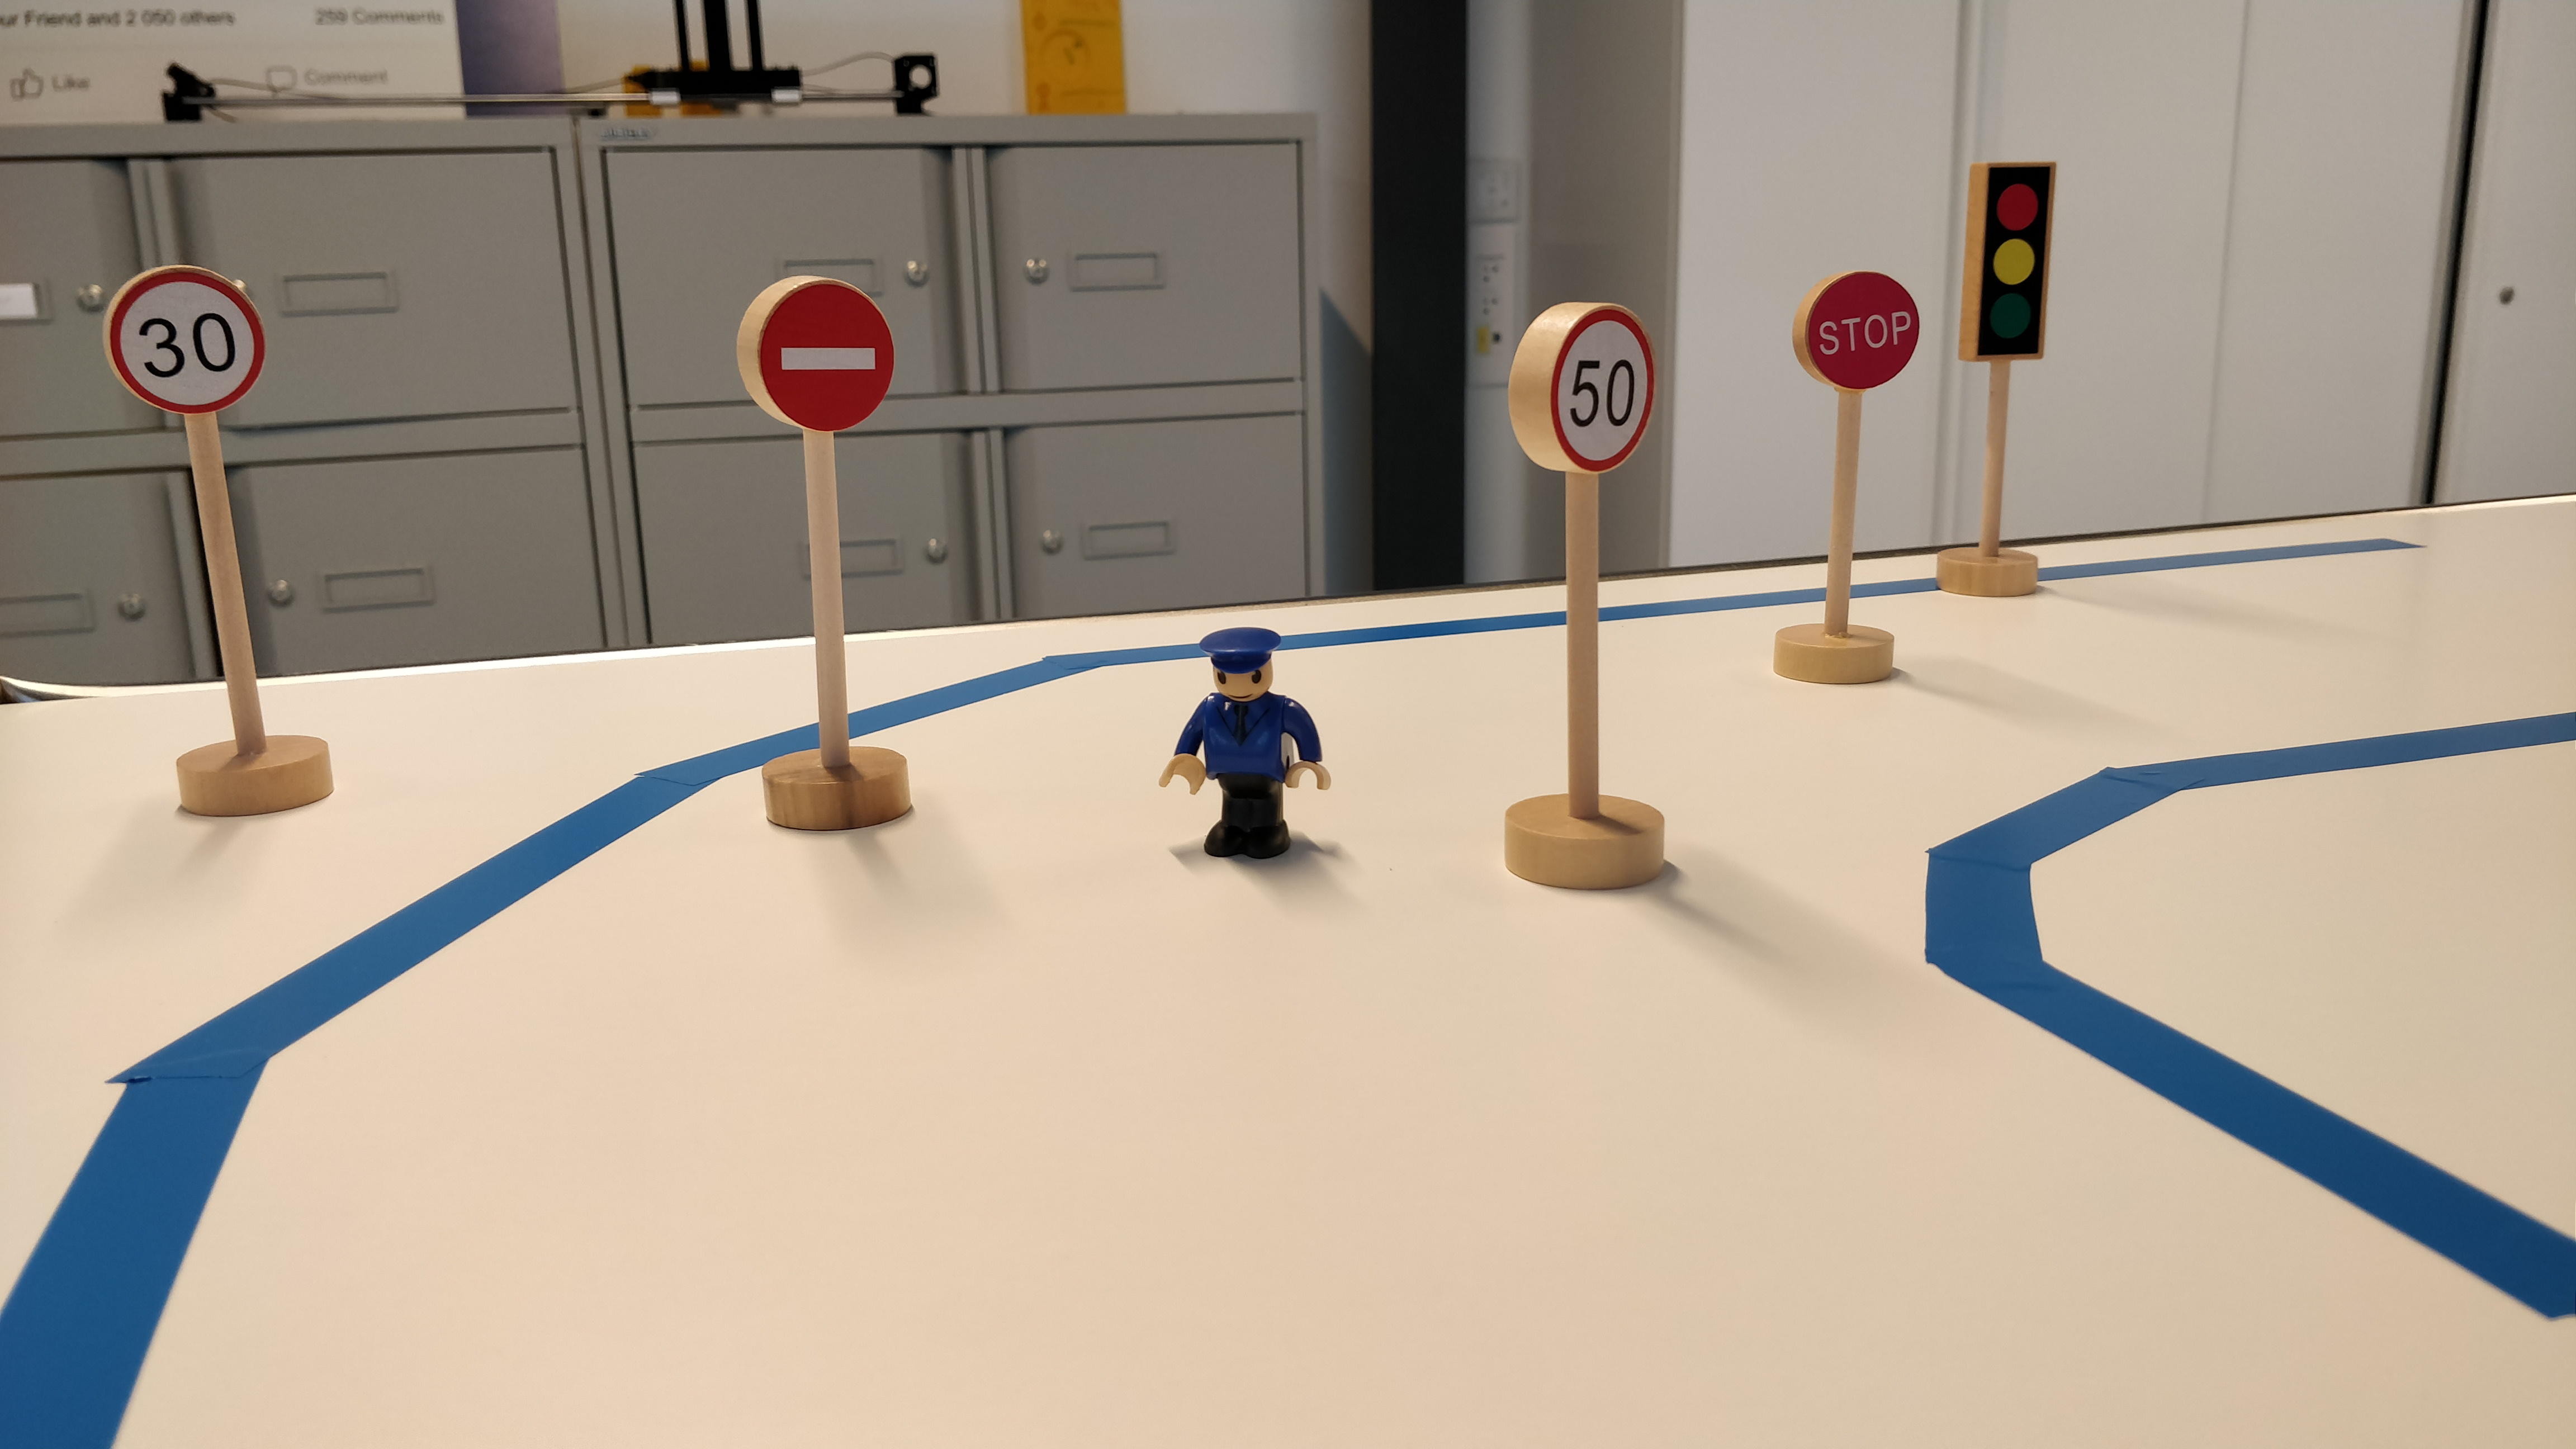Person: (1155, 626, 1337, 865)
Prohibition Sign: (731, 271, 899, 435)
Speed Limit 30: (97, 261, 271, 416)
Speed Limit 50: (1504, 293, 1660, 480)
Stop Sign: (1788, 266, 1925, 395)
Traffic Light: (1957, 154, 2063, 365)
